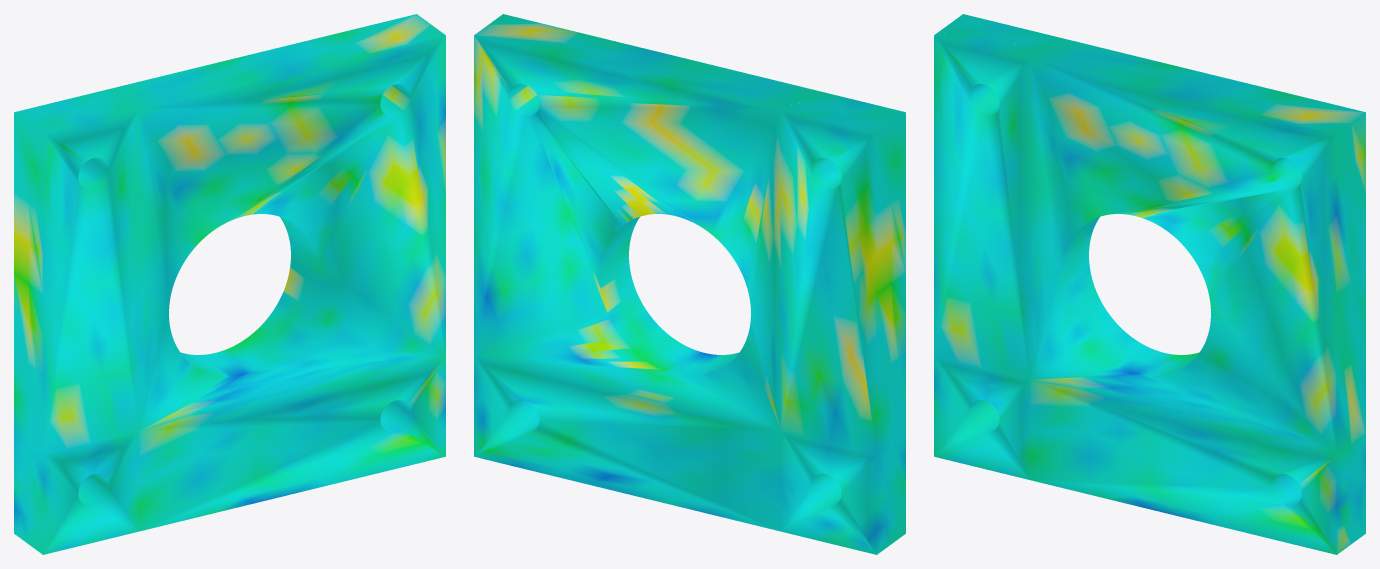
Rendered from Mounting Plate_fea_static_1.glb.
The picture shows the model from 3 angles, left to right: view 1: azimuth 30°, elevation 25°; view 2: azimuth 150°, elevation 25°; view 3: azimuth 330°, elevation 25°; orthographic projection.
Visible parts, largest first — view 1: FEA_Result; view 2: FEA_Result; view 3: FEA_Result.
Boxes of the visible parts, box(x1,y1,x2,y2) form: FEA_Result: box(14, 14, 445, 554); FEA_Result: box(474, 14, 905, 554); FEA_Result: box(934, 14, 1365, 554).
Size of the model in its own units: 0.08 by 0.08 by 0.01.
